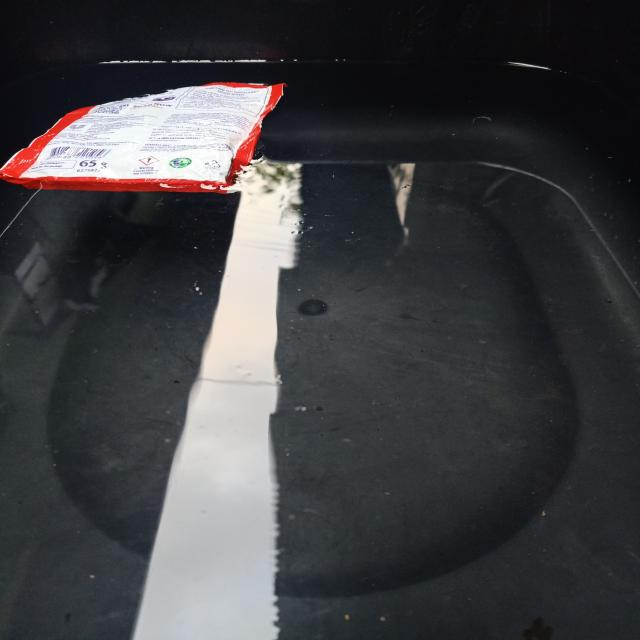Plastic Wrapper: (0, 77, 304, 208)
